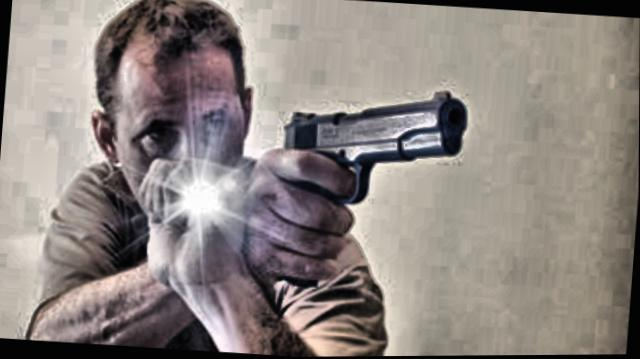pistol: (257, 71, 472, 298)
